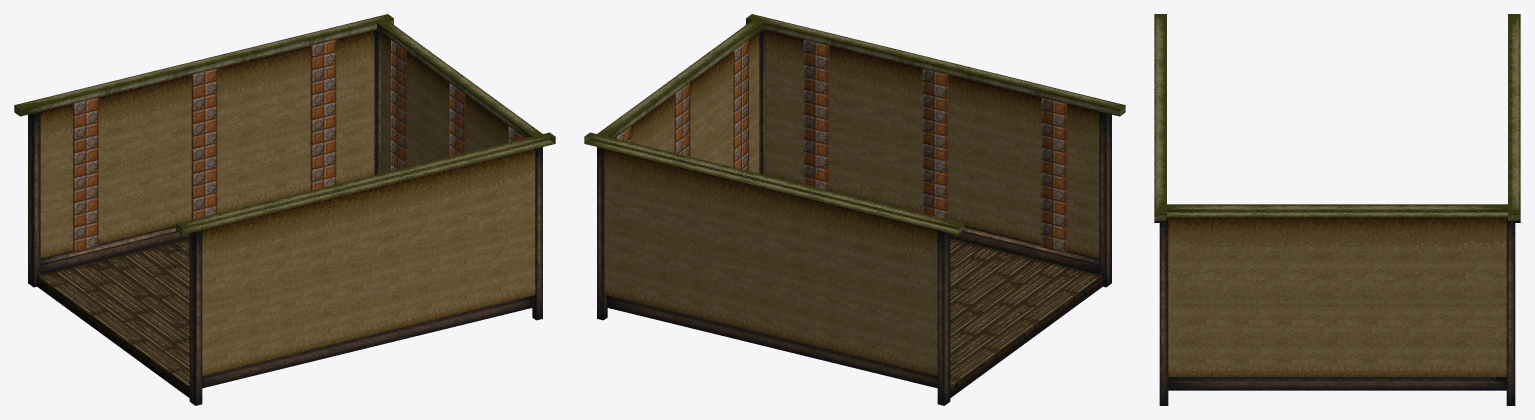
File: EnvBdgMD_Sea_A_Indoor_House_D.FBX
3 renders of one model, left to right at view 1: azimuth 30°, elevation 25°; view 2: azimuth 150°, elevation 25°; view 3: azimuth 270°, elevation 25°, orthographic. The views are drawn at different scales.
Parts seen in each view (by area): view 1: EnvBdgMD_Sea_A_Indoor_House_D; view 2: EnvBdgMD_Sea_A_Indoor_House_D; view 3: EnvBdgMD_Sea_A_Indoor_House_D.
Boxes of the visible parts, x1,y1,x2,y2 form: EnvBdgMD_Sea_A_Indoor_House_D: [14, 14, 555, 405]; EnvBdgMD_Sea_A_Indoor_House_D: [584, 14, 1125, 405]; EnvBdgMD_Sea_A_Indoor_House_D: [1154, 14, 1520, 405].
Size of the model in its own units: 1100 by 510 by 855.
Materials: 1 (1 with a texture image).
